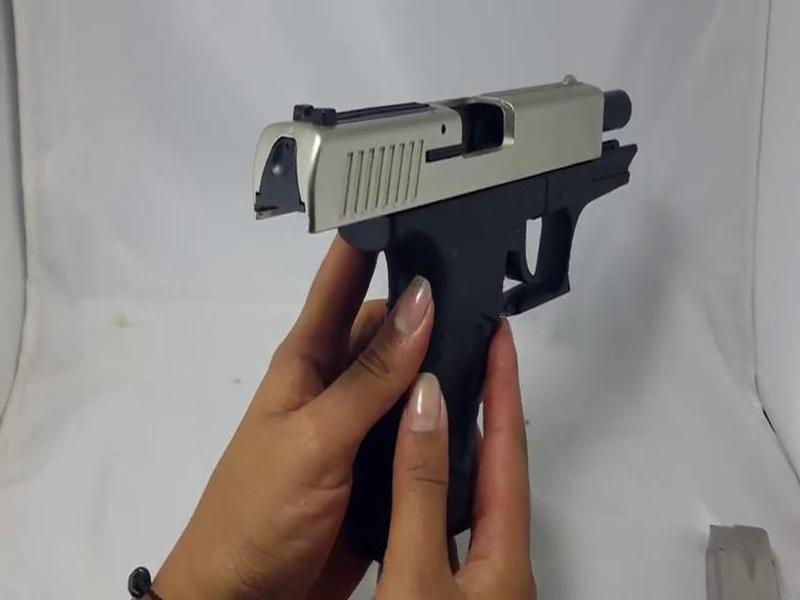Pistola: (262, 66, 646, 541)
